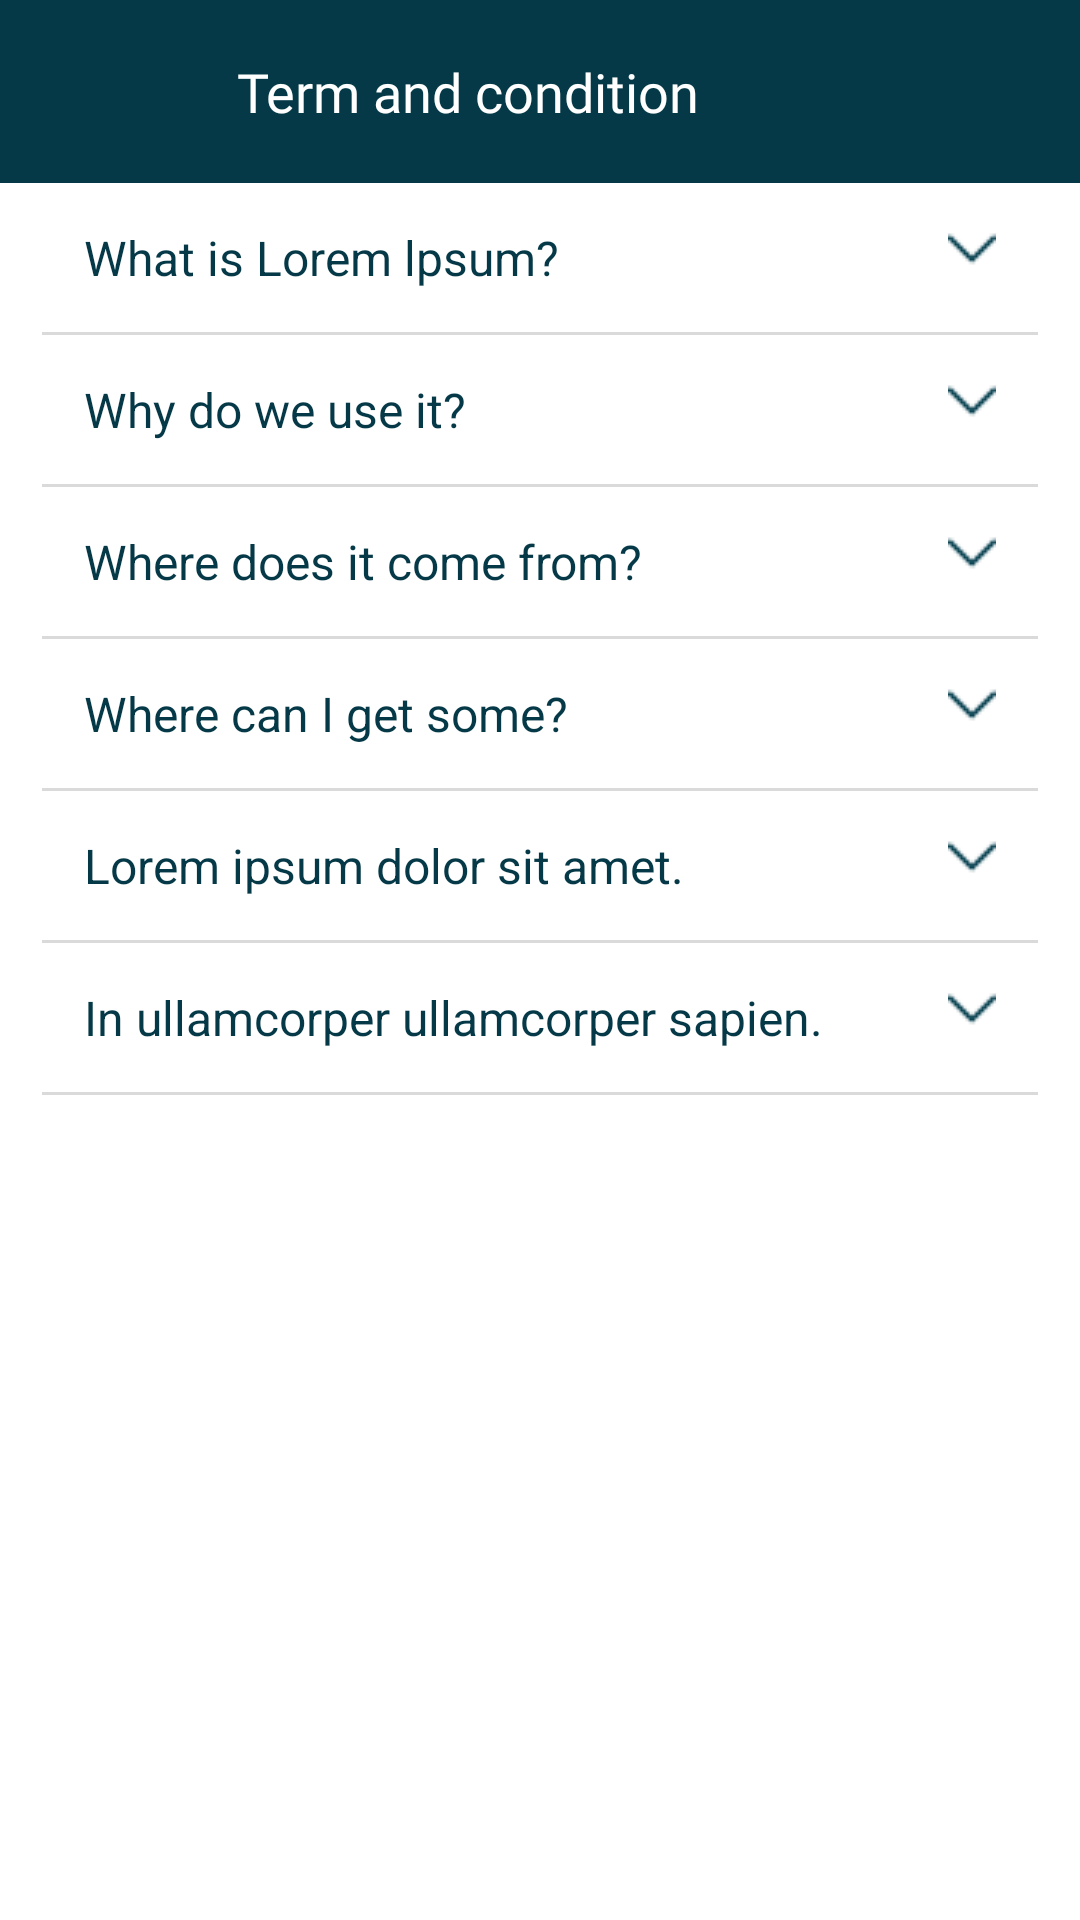

Icon bounding boxes for this 1080×1920 phone screenshot, format box(x1, y1, x2, y2):
dropdown: box(948, 233, 996, 264), box(948, 385, 996, 416), box(948, 537, 996, 568), box(948, 689, 996, 720), box(948, 841, 996, 872), box(948, 993, 996, 1024)
